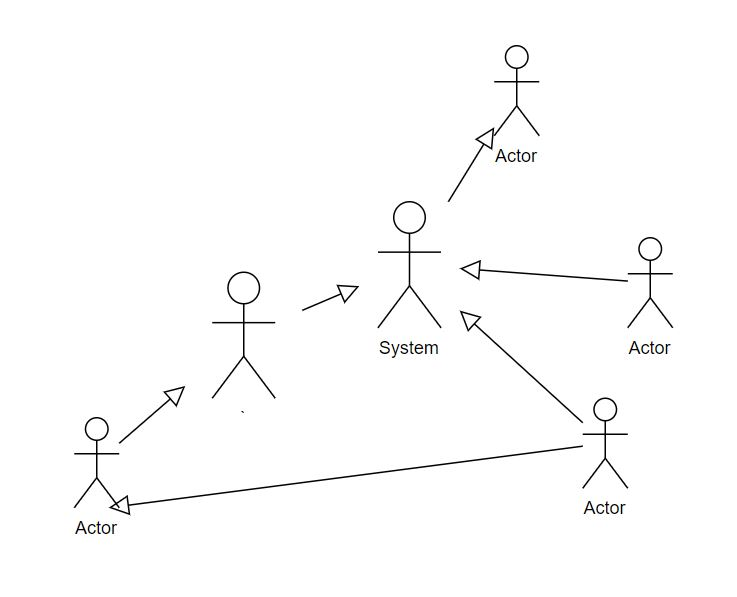actor: (212, 272, 277, 400), (378, 200, 441, 329), (494, 44, 540, 136), (580, 398, 627, 488), (73, 417, 118, 508), (629, 237, 673, 329)
generalization: (108, 445, 582, 514), (458, 311, 583, 425), (119, 384, 185, 443), (461, 260, 628, 282), (449, 126, 494, 202), (299, 284, 361, 311)
text: (375, 336, 441, 359), (72, 512, 118, 537), (581, 498, 630, 519), (489, 148, 541, 167), (625, 338, 674, 358)
